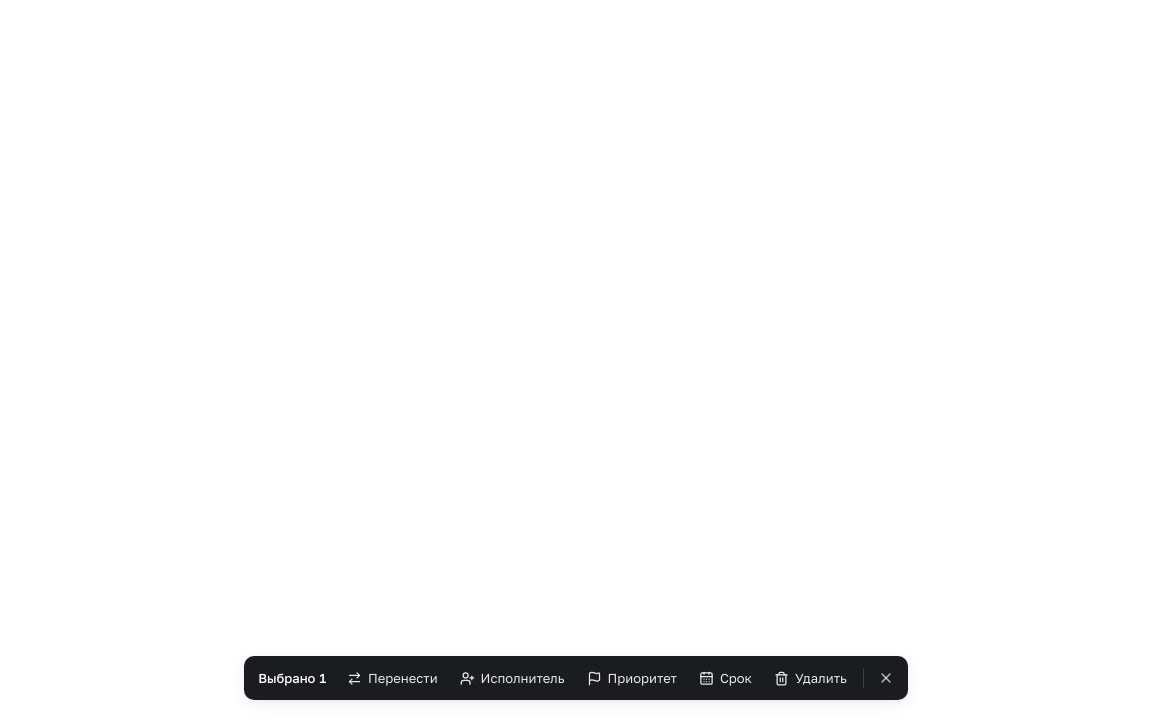
it: bulk bar › deletes only after confirmation, and only for people who may
Later steps or results of the test are not shown.
Click the button "Удалить" at (810, 678), box [764,662,857,694]
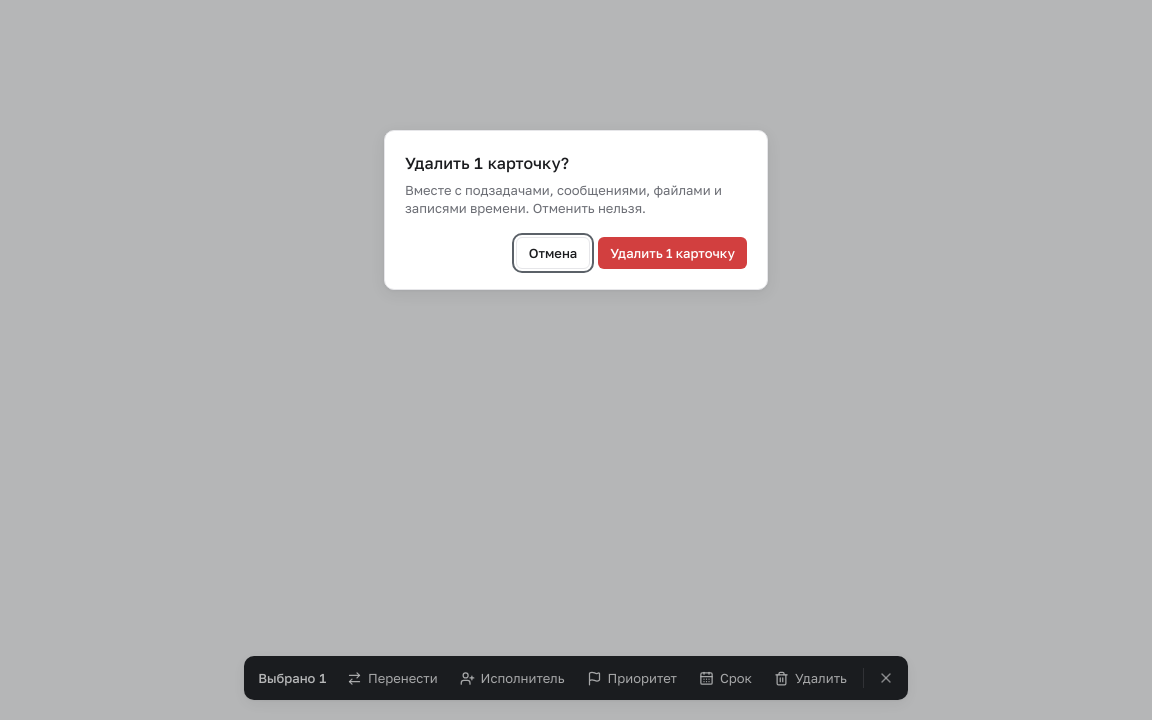
Now the dialog "Удалить 1 карточку?" is shown, box [384,130,768,290]
